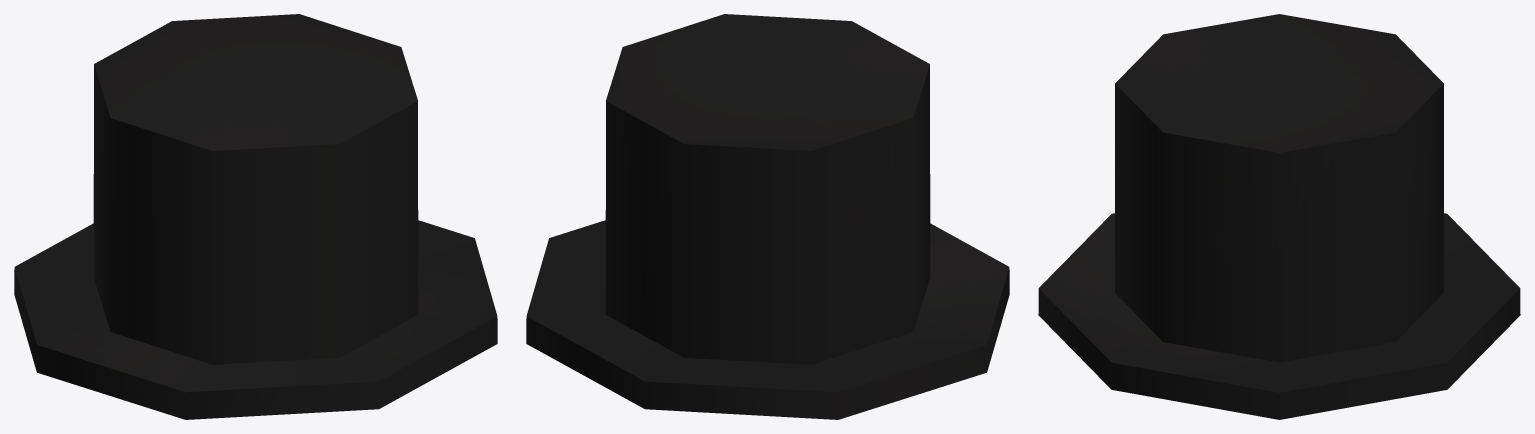
The model's file is Charakter_Businessman_cap.FBX.
The picture shows the model from 3 angles, left to right: view 1: azimuth 30°, elevation 25°; view 2: azimuth 150°, elevation 25°; view 3: azimuth 270°, elevation 25°; orthographic projection. The views are drawn at different scales.
Parts seen in each view (by area): view 1: Charakter_Businessman_cap; view 2: Charakter_Businessman_cap; view 3: Charakter_Businessman_cap.
Boxes of the visible parts, x1,y1,x2,y2 form: Charakter_Businessman_cap: [14, 14, 497, 419]; Charakter_Businessman_cap: [526, 14, 1009, 419]; Charakter_Businessman_cap: [1038, 14, 1520, 419].
Size of the model in its own units: 195 by 190 by 101.
